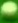white: (0, 0, 18, 23)
